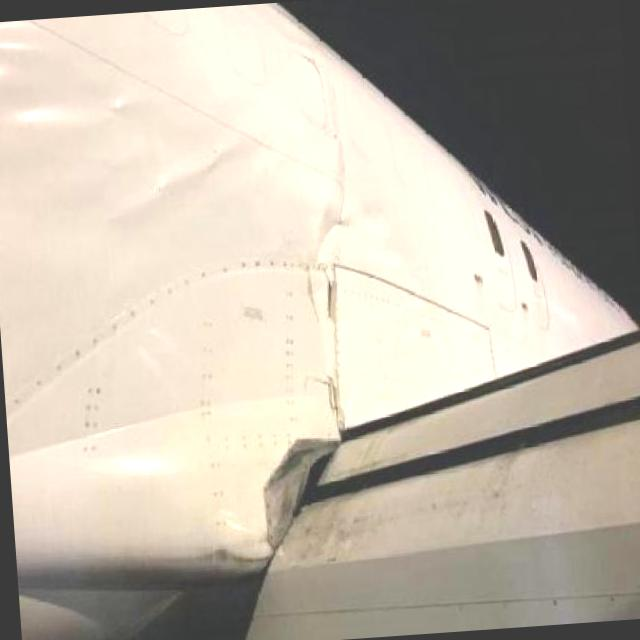dent: (136, 134, 246, 212), (7, 88, 149, 132), (84, 430, 184, 485), (0, 20, 50, 85)
